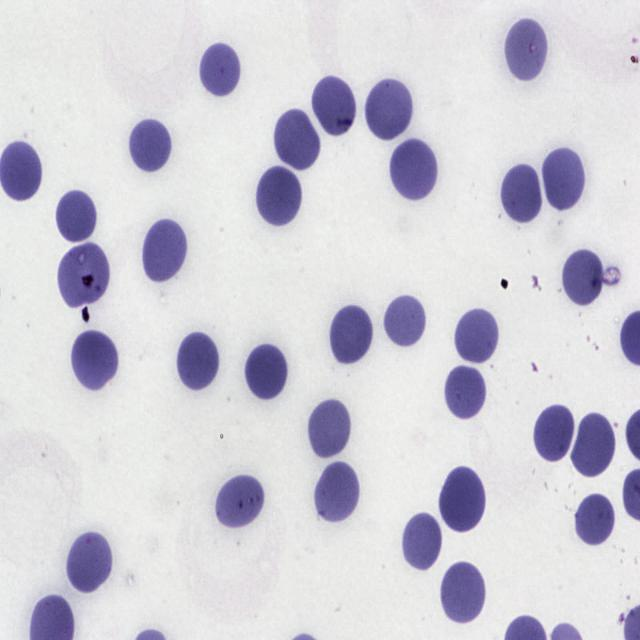red blood cell: (57, 240, 111, 306), (310, 460, 363, 527), (389, 134, 438, 206), (141, 215, 187, 288), (306, 395, 354, 461), (70, 329, 120, 392), (365, 76, 414, 140), (66, 532, 115, 596), (440, 560, 487, 626), (253, 169, 303, 231), (272, 108, 321, 171), (560, 246, 608, 309), (573, 412, 617, 480), (453, 306, 502, 367), (440, 467, 484, 533), (330, 301, 374, 366), (503, 19, 549, 81), (177, 328, 220, 394), (543, 148, 588, 211), (500, 162, 544, 226), (312, 74, 356, 138), (54, 188, 101, 247), (244, 342, 290, 402), (380, 295, 430, 350), (127, 116, 174, 174), (444, 363, 490, 422), (216, 473, 265, 528), (198, 40, 243, 99), (400, 515, 444, 575), (531, 405, 573, 466), (574, 490, 616, 550)
